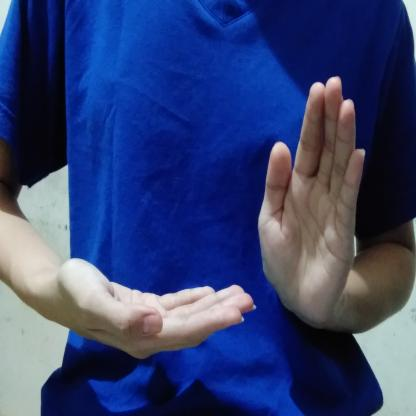hello: (52, 70, 368, 363)
